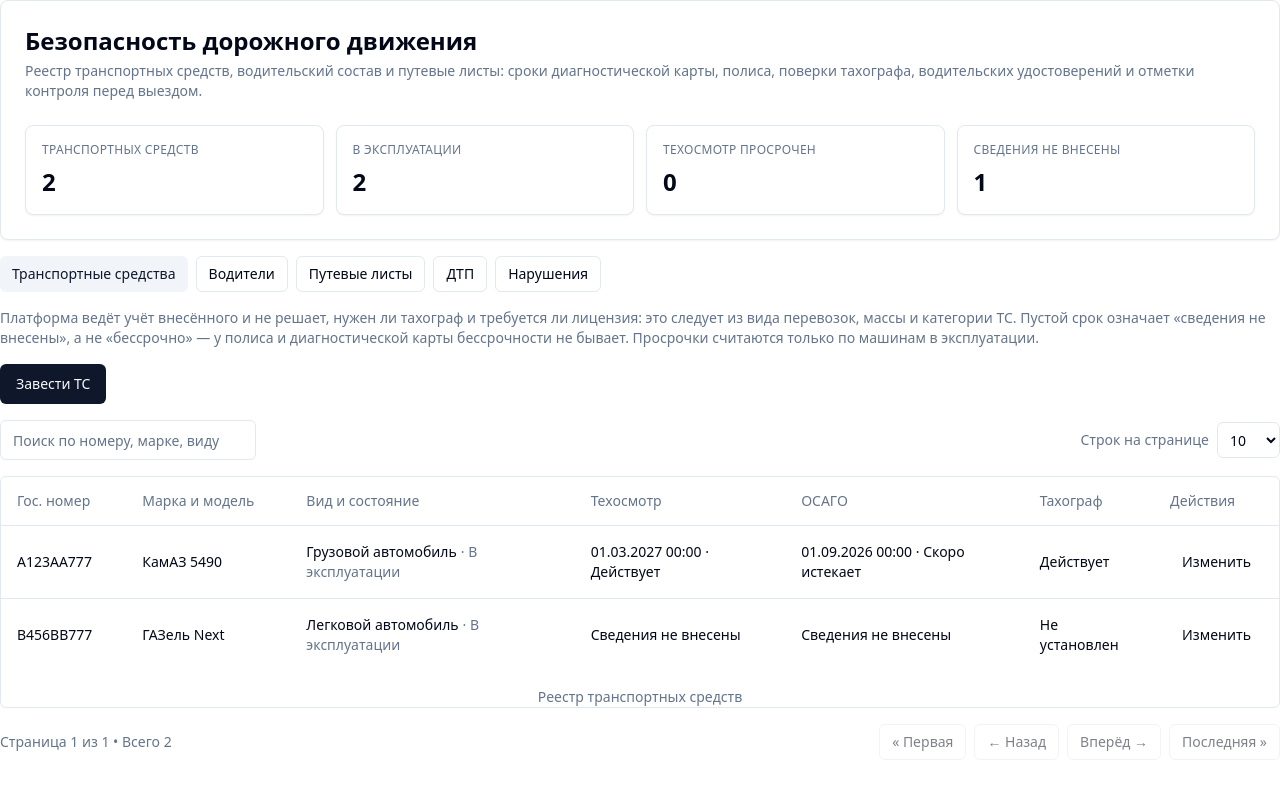
Scenario: RoadSafetyPage › ТС заводится с экрана, а не только через API (срез-107)
The image size is (1280, 797).
Step 1. Click the button "Завести ТС" → (53, 384), box [0, 364, 106, 404]
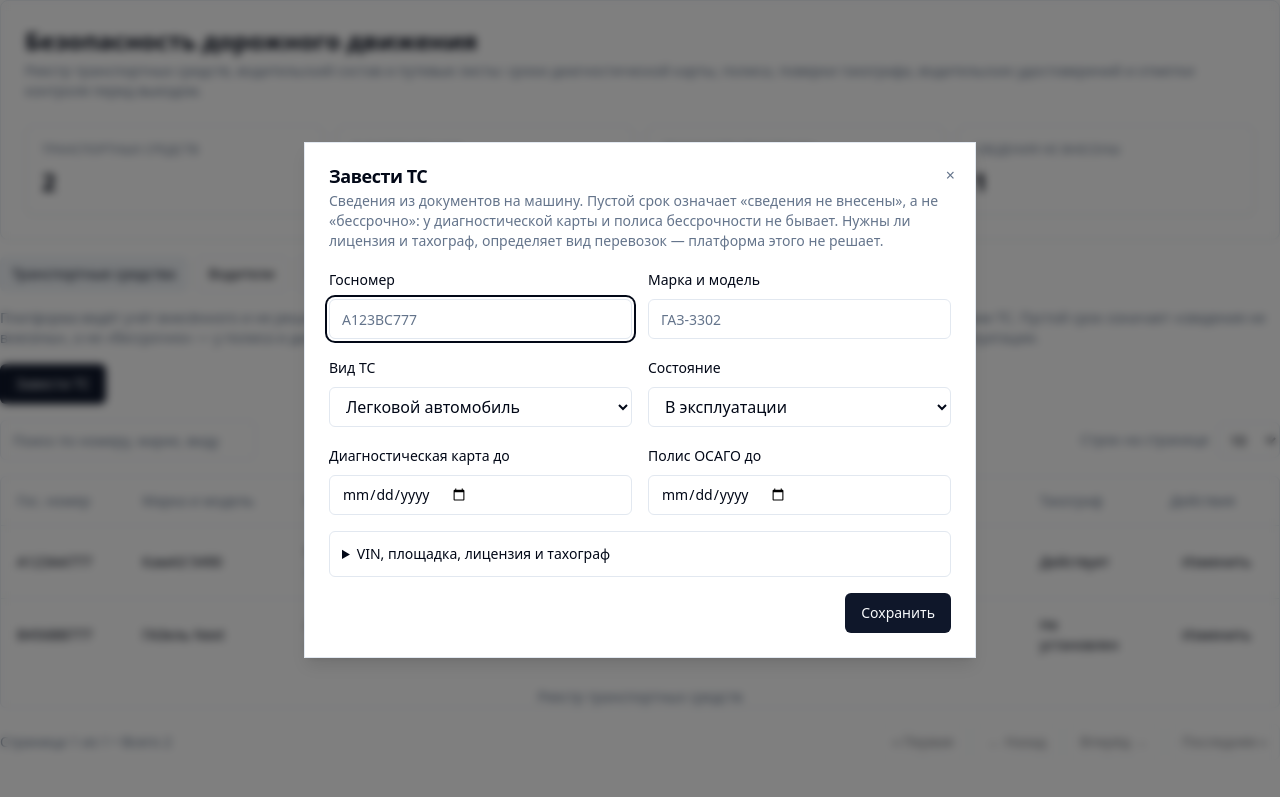
Step 2. Type "Х777ХХ777" into the field labelled "Госномер" → (480, 319), box [329, 299, 632, 339]
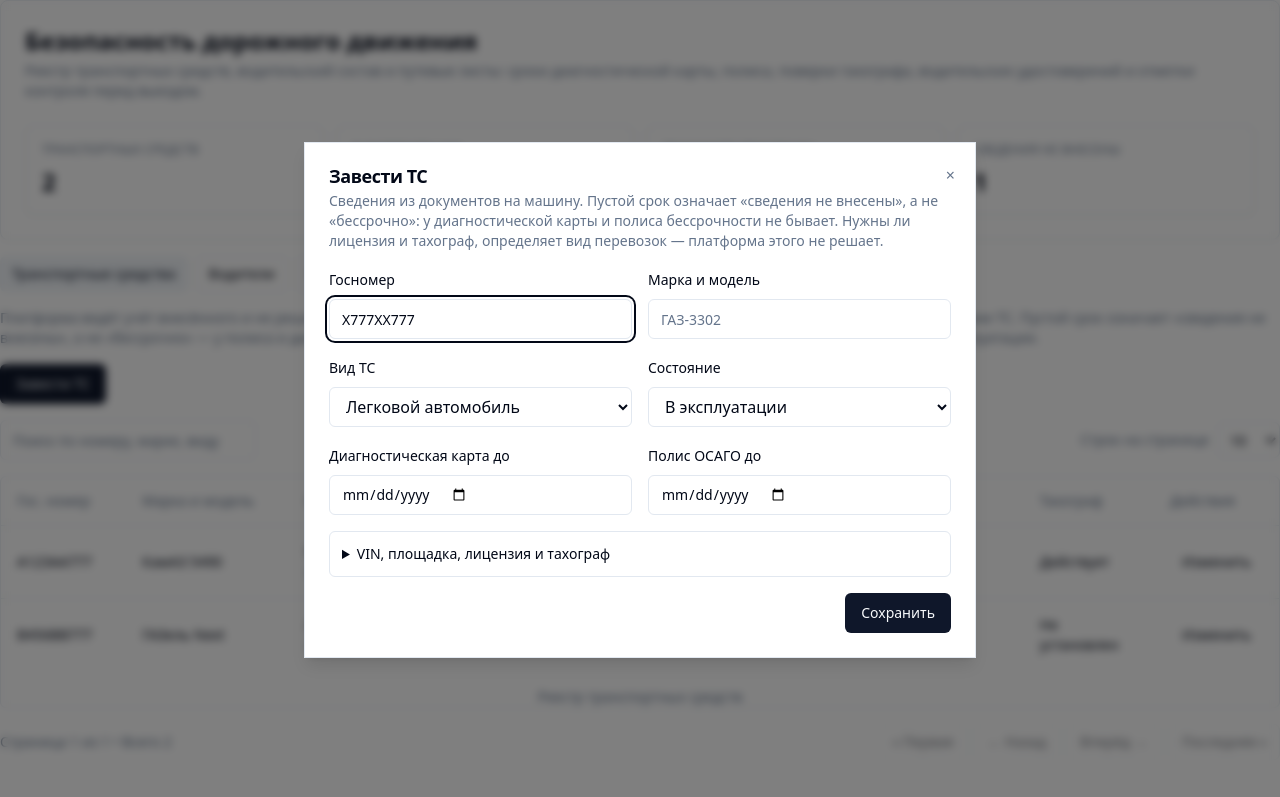
Step 3. Type "КамАЗ-65115" into the field labelled "Марка и модель" → (800, 319), box [648, 299, 951, 339]
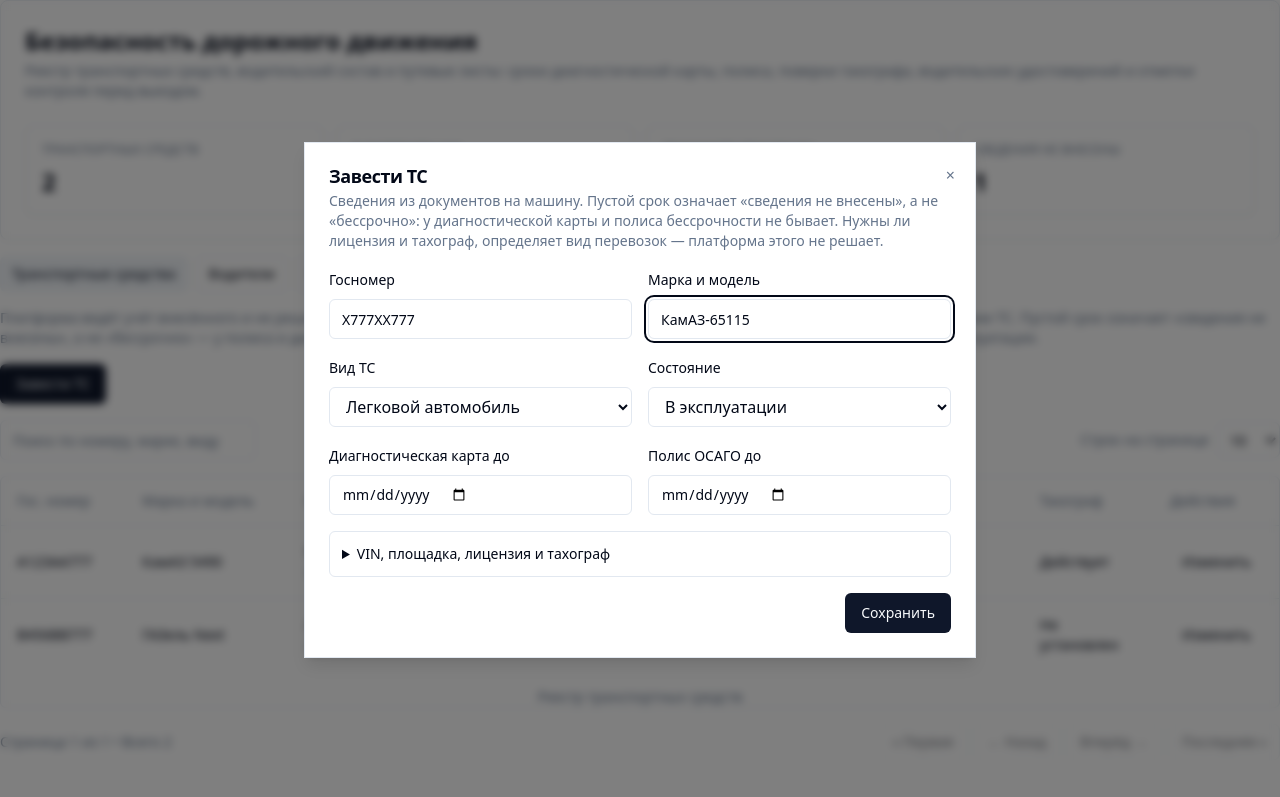
Step 4. Select "Грузовой автомобиль" in the dropdown labelled "Вид ТС" → (480, 407), box [329, 387, 632, 427]
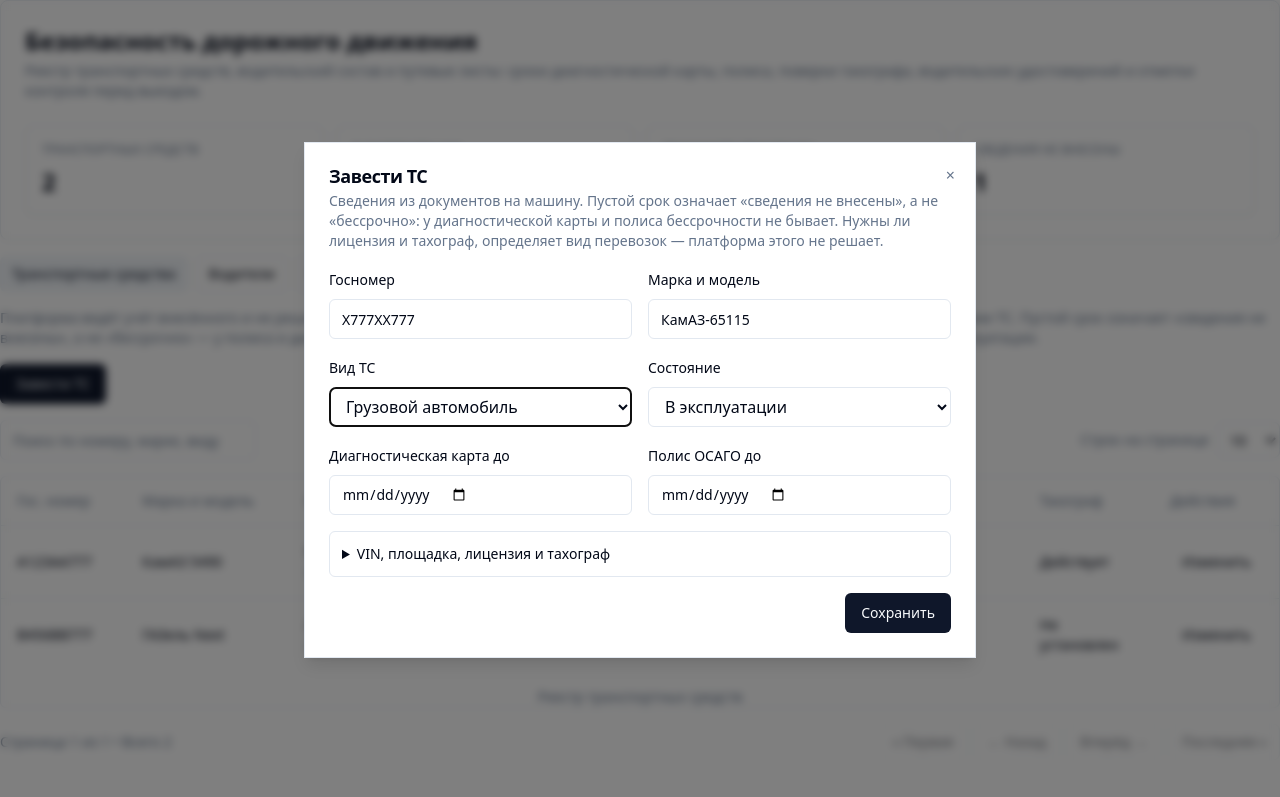
Step 5. Type "2027-04-01" into the date field labelled "Диагностическая карта до" → (480, 495), box [329, 475, 632, 515]
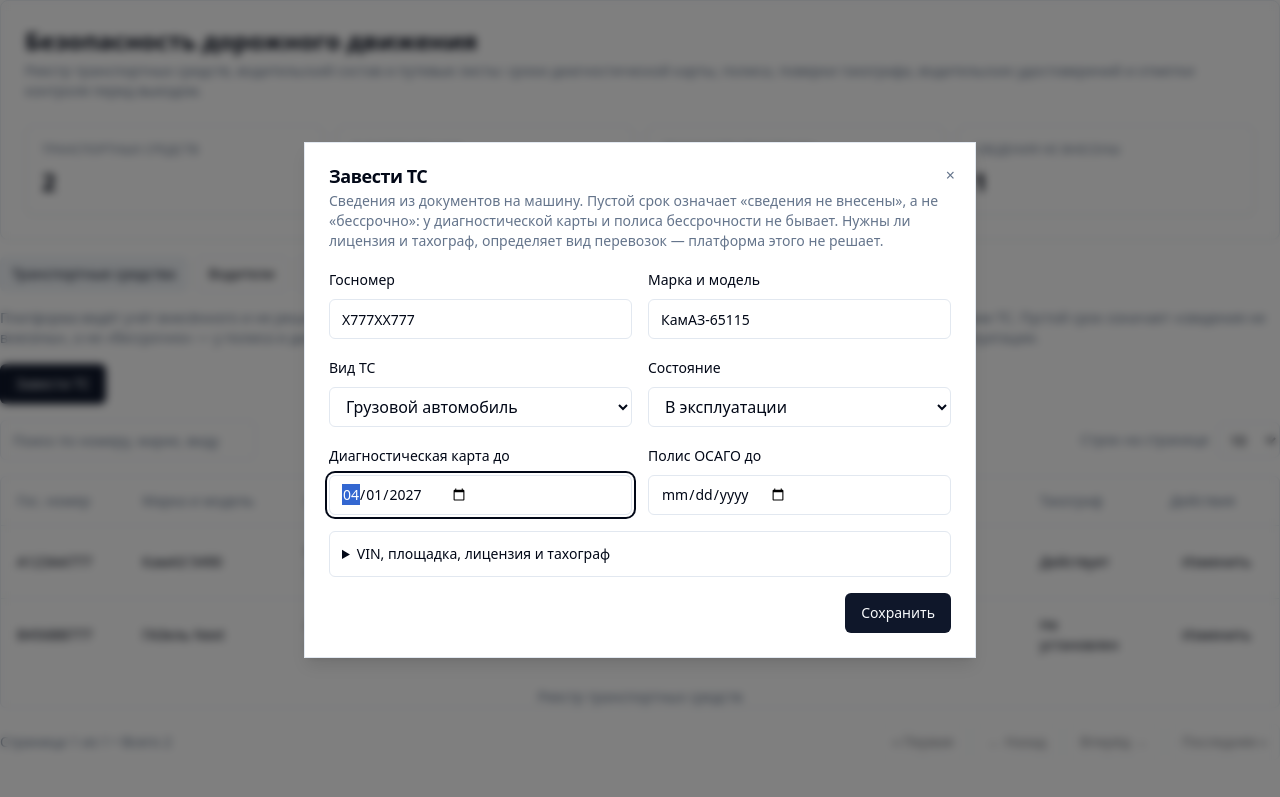
Step 6. Click the button "Сохранить" → (898, 613), box [845, 593, 951, 633]
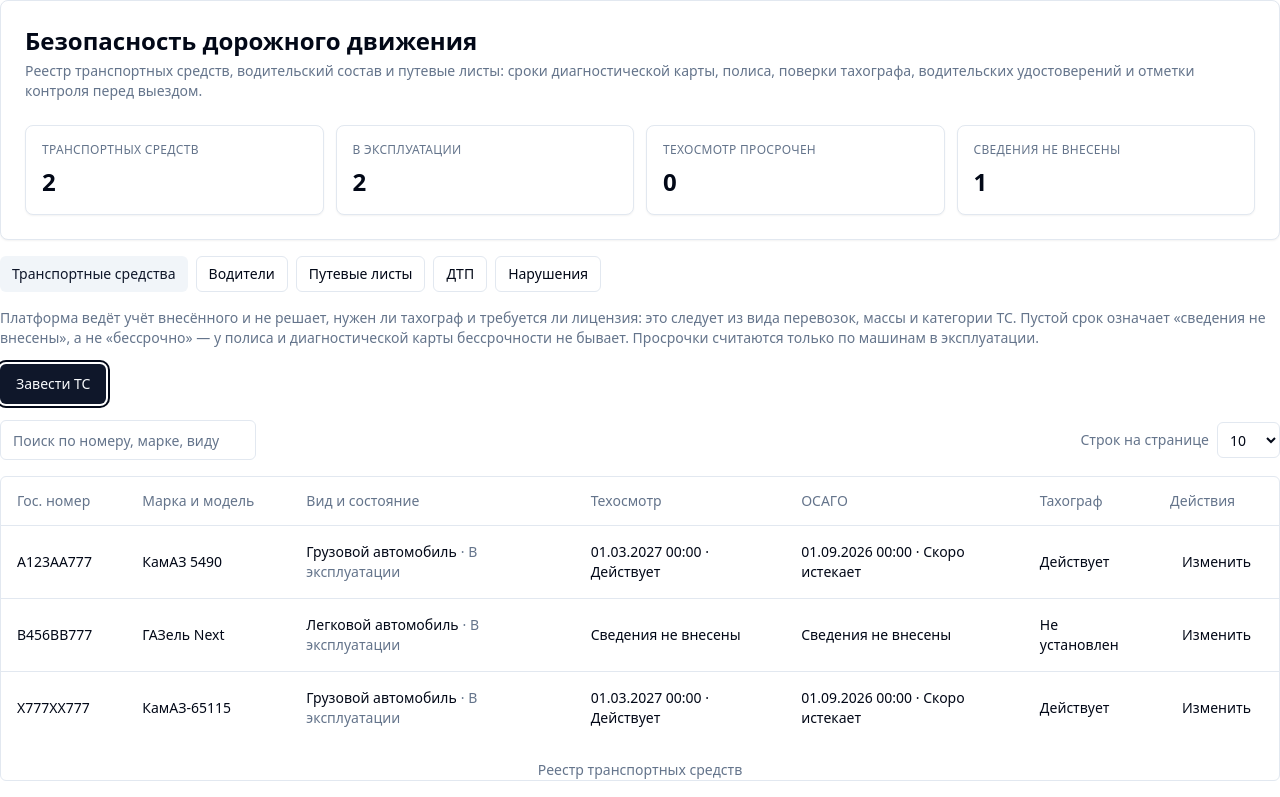
Result: the text "Х777ХХ777" is shown at [1, 671, 126, 744]
